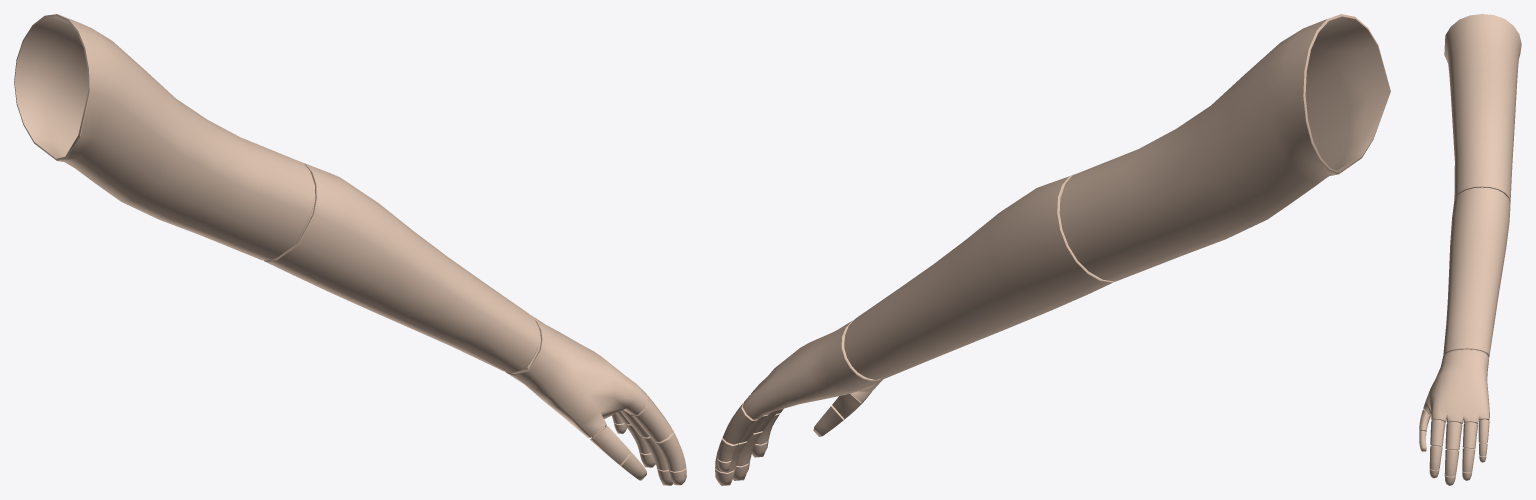
Rendered from MannequinFemaleArmLeft.fbx.
The picture shows the model from 3 angles, left to right: view 1: azimuth 30°, elevation 25°; view 2: azimuth 150°, elevation 25°; view 3: azimuth 270°, elevation 25°; orthographic projection. The views are drawn at different scales.
Parts seen in each view (by area): view 1: MannequinArmFemaleRight1; view 2: MannequinArmFemaleRight1; view 3: MannequinArmFemaleRight1.
Part boxes in pixels (x1,y1,x2,y2): MannequinArmFemaleRight1: (14,14,686,485); MannequinArmFemaleRight1: (715,14,1390,485); MannequinArmFemaleRight1: (1419,14,1521,485).
Size of the model in its own units: 0.5202 by 0.4823 by 0.1402.
